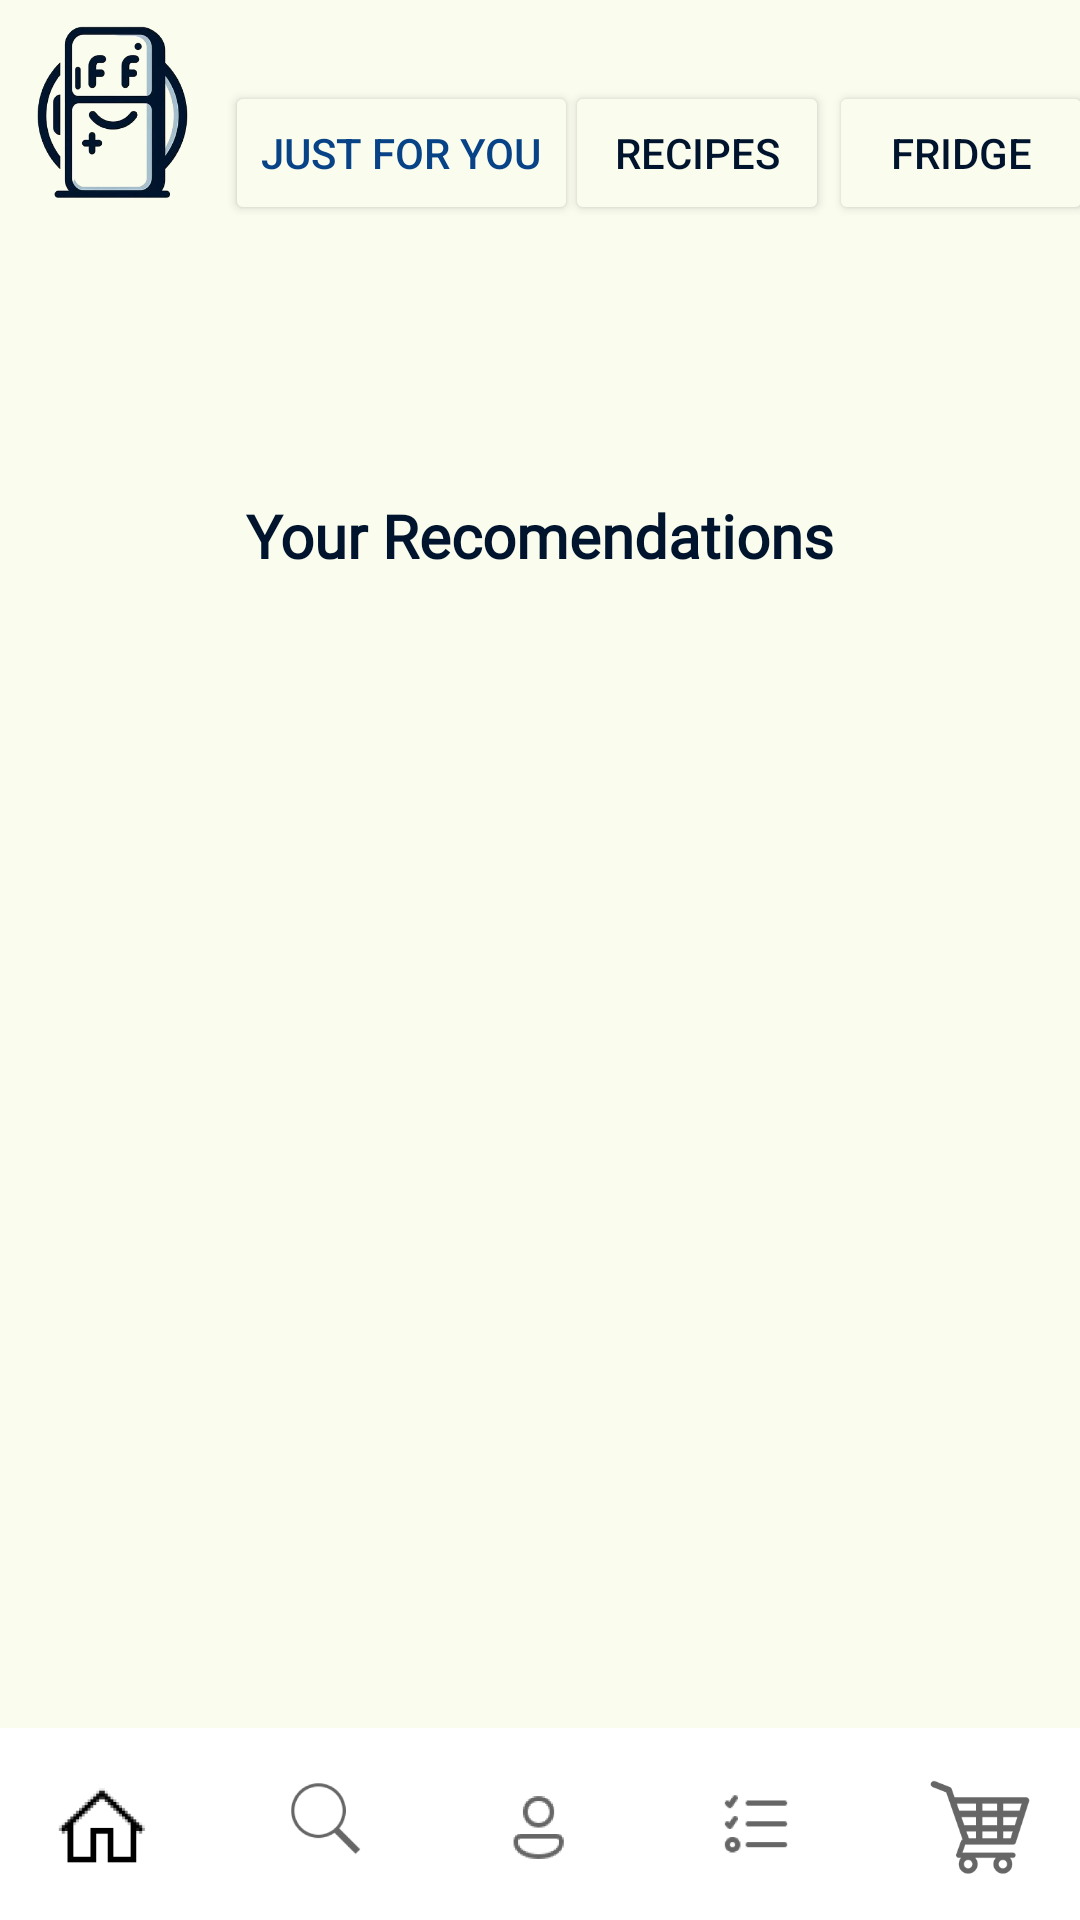

Locate icon controls on the screen. Image size 1080x1920, boxes as (x1, y1, x2, y2).
home: (59, 1790, 145, 1863)
list: (725, 1795, 787, 1853)
search: (291, 1783, 360, 1854)
shopping: (930, 1781, 1030, 1874)
userapp: (513, 1796, 564, 1859)
